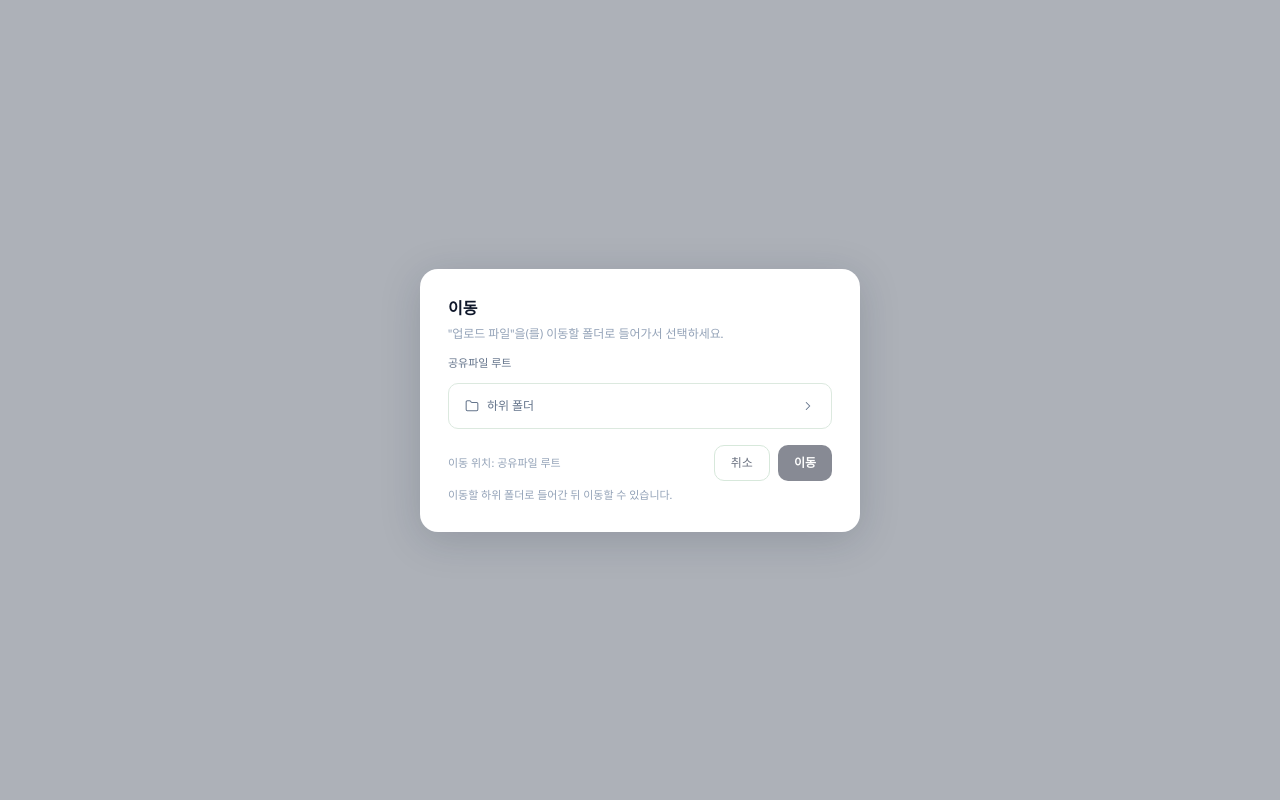
Test: SharedFolderMoveModal › 공유파일 루트 breadcrumb을 클릭하면 최상위 목록으로 돌아간다
Click the button "하위 폴더": (511, 406) [453,388,827,424]
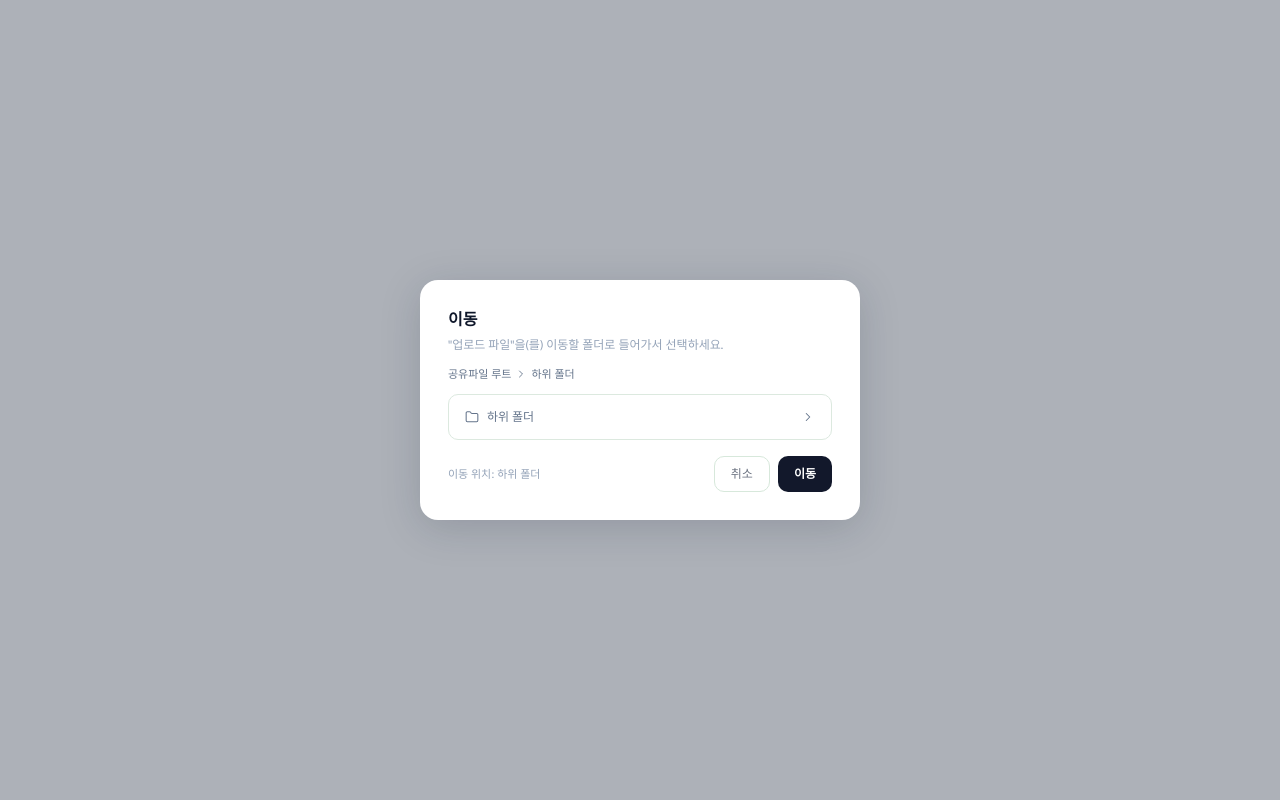
Now the button "이동" is enabled, box [778,456,832,492]
Click the button "공유파일 루트": (480, 374) [448,366,512,382]
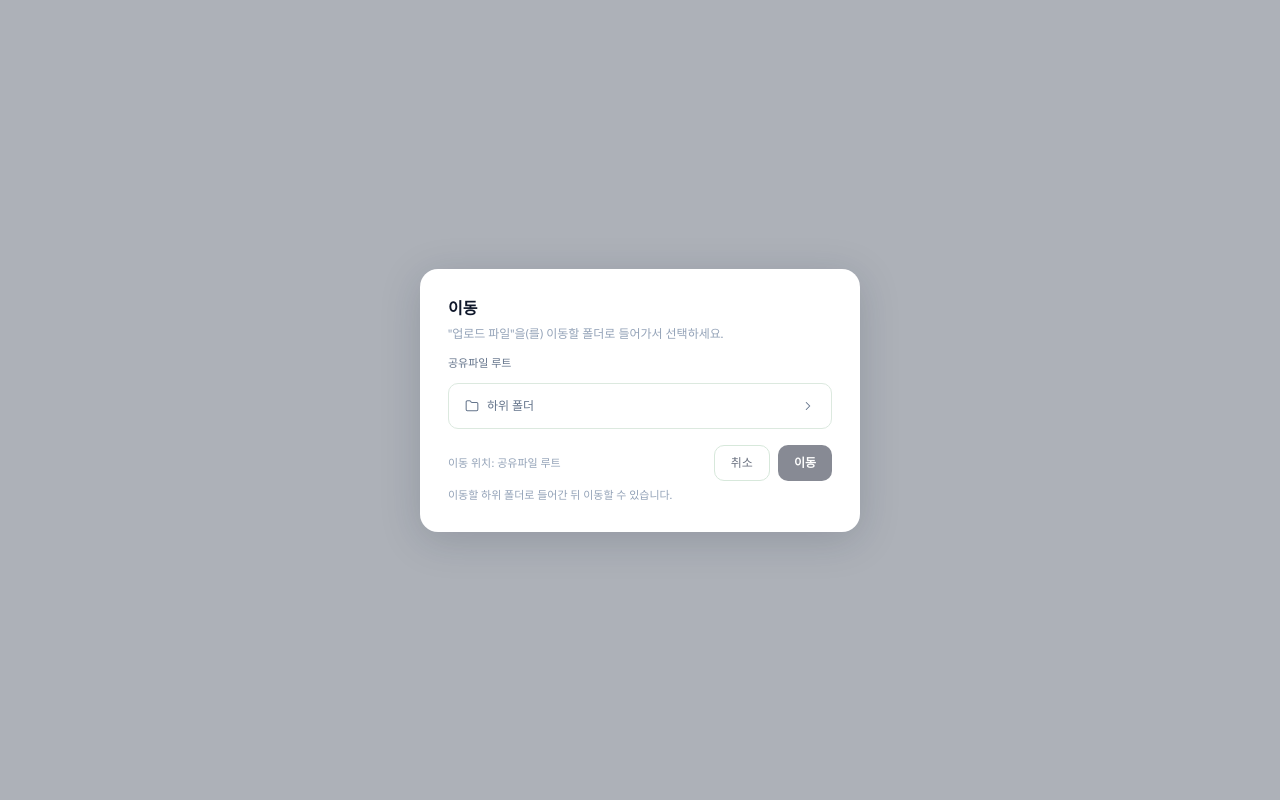
Now the button "이동" is disabled, box [778,445,832,481]
